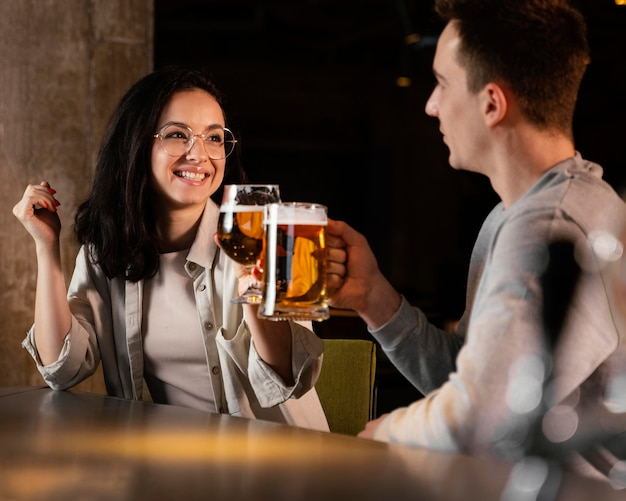alcohol: (263, 201, 350, 322), (217, 183, 286, 307)
